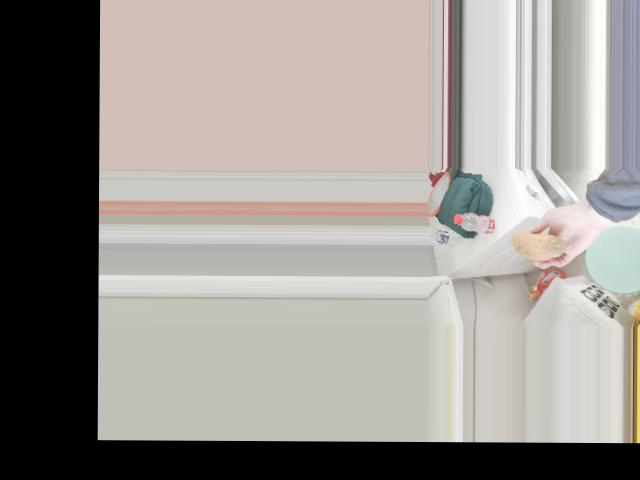sweet_potato: (507, 228, 574, 257)
